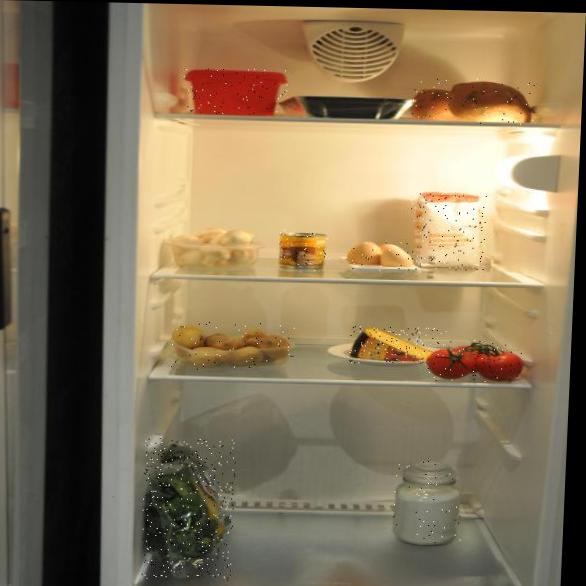butter: (182, 67, 288, 118)
cheese: (350, 326, 447, 365)
corn: (278, 230, 329, 272)
eggs: (347, 240, 417, 271)
mushrooms: (168, 223, 263, 269)
potato: (171, 321, 296, 372)
spinach: (139, 438, 237, 581)
sugar: (392, 459, 465, 548), (409, 192, 488, 271)
sweet_potato: (405, 77, 537, 125)
tomato: (427, 339, 524, 383)
